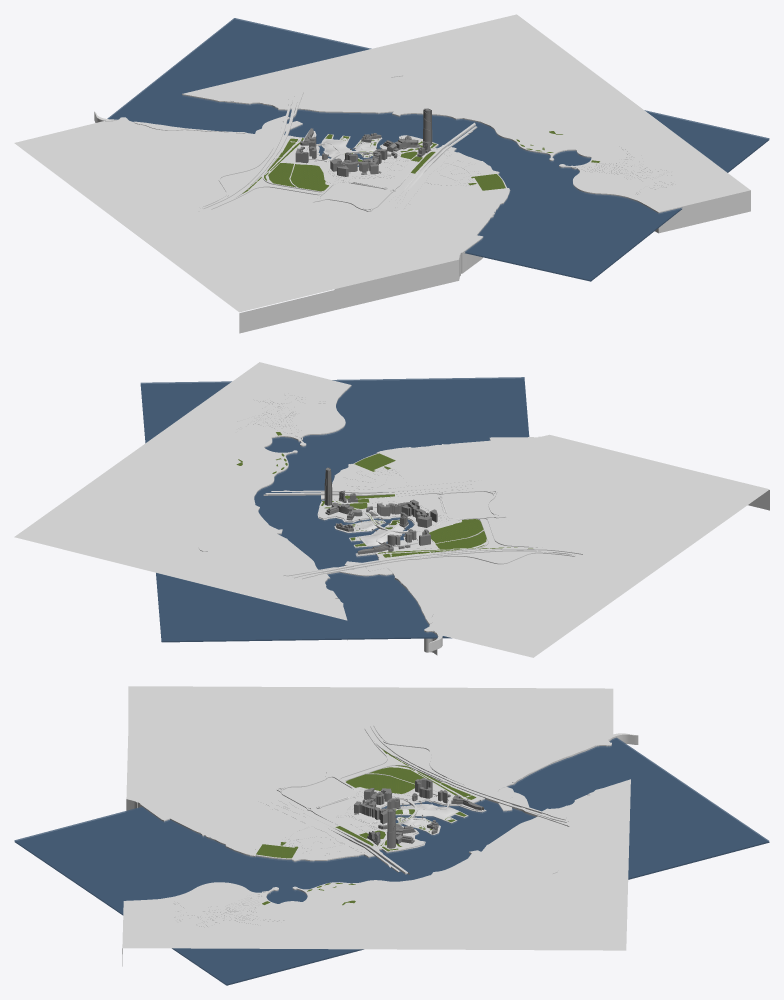
Rendered from Volna_by_Casco_mini_map.glb.
The picture shows the model from 3 angles, top to bottom: view 1: azimuth 30°, elevation 25°; view 2: azimuth 150°, elevation 25°; view 3: azimuth 270°, elevation 25°; orthographic projection. The views are drawn at different scales.
Visible parts, largest first — view 1: land, water, road, tree, build; view 2: land, water, road, build, tree; view 3: land, water, road, tree, build.
Part boxes in pixels (x1,y1,x2,y2): land: (14, 14, 750, 333); water: (107, 18, 769, 281); road: (198, 92, 676, 212); tree: (242, 131, 599, 193); build: (295, 108, 432, 176); land: (14, 362, 769, 657); water: (140, 377, 529, 642); road: (235, 393, 583, 579); build: (324, 467, 437, 554); tree: (236, 432, 532, 557); land: (122, 686, 638, 966); water: (14, 737, 769, 985); road: (172, 722, 569, 930); tree: (256, 749, 476, 905); build: (354, 778, 483, 848).
Bounding box in the file's own units: 4008 × 374 × 4307.
6 materials, 1 textured.
